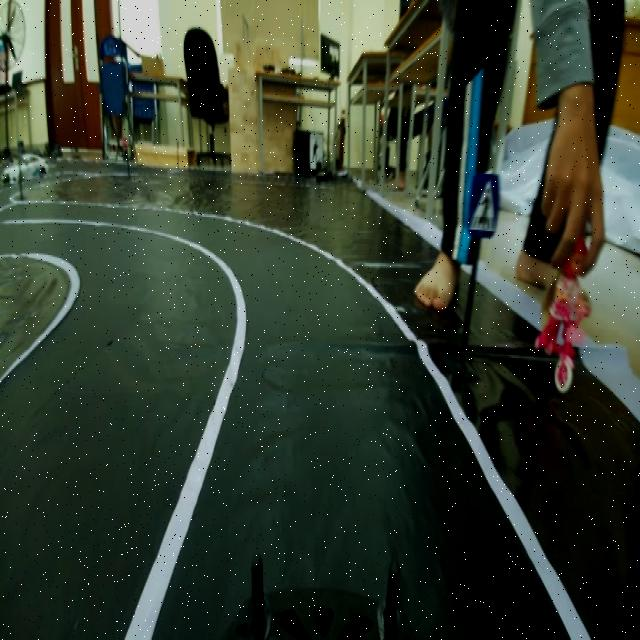crosswalk: (460, 167, 500, 246)
